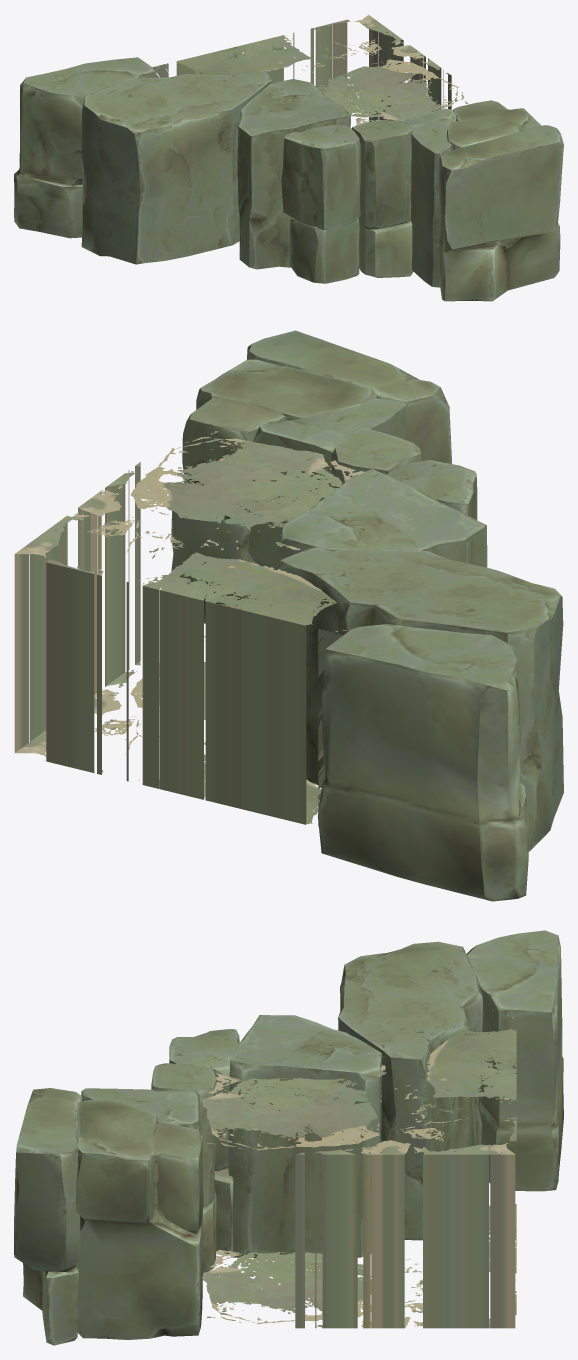
The model's file is Ruins_Wall_DMG_Center_TopLeft_A.obj.
3 renders of one model, top to bottom at view 1: azimuth 30°, elevation 25°; view 2: azimuth 150°, elevation 25°; view 3: azimuth 270°, elevation 25°, orthographic. The views are drawn at different scales.
Visible parts, largest first — view 1: Dn_HL_Ruins_Wall_DMG_Center_TopLeft_A; view 2: Dn_HL_Ruins_Wall_DMG_Center_TopLeft_A; view 3: Dn_HL_Ruins_Wall_DMG_Center_TopLeft_A.
Part boxes in pixels (x1=…): Dn_HL_Ruins_Wall_DMG_Center_TopLeft_A: x1=14, y1=15, x2=563, y2=301; Dn_HL_Ruins_Wall_DMG_Center_TopLeft_A: x1=14, y1=330, x2=563, y2=901; Dn_HL_Ruins_Wall_DMG_Center_TopLeft_A: x1=14, y1=930, x2=563, y2=1345.
Bounding box in the file's own units: 7.28 × 2.82 × 7.17.
